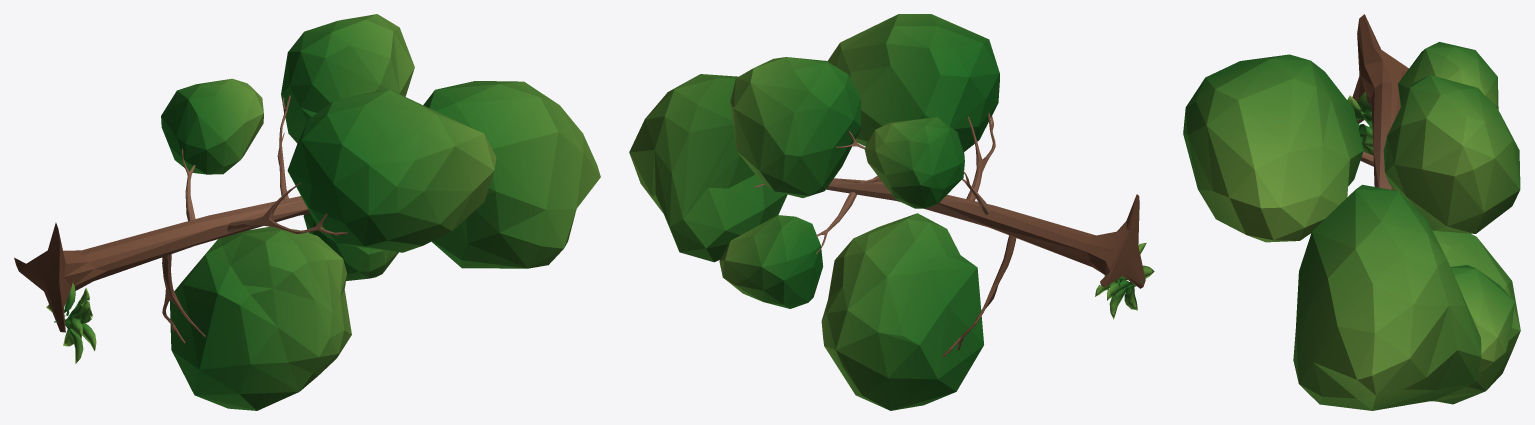
Rendered from Tree2Broke.fbx.
The picture shows the model from 3 angles, left to right: view 1: azimuth 30°, elevation 25°; view 2: azimuth 150°, elevation 25°; view 3: azimuth 270°, elevation 25°; orthographic projection. The views are drawn at different scales.
Parts seen in each view (by area): view 1: Tree2_fracturepart48_2, Tree2_fracturepart36, Tree2_fracturepart44, Tree2_fracturepart50_2, Tree2_fracturepart33, Tree2_fracturepart32_2, Tree2_fracturepart25_3, Tree2_fracturepart29, Tree2_fracturepart26, Tree2_fracturepart17_2, Tree2_fracturepart15, Tree2_fracturepart5_3 (+22 smaller); view 2: Tree2_fracturepart32_2, Tree2_fracturepart39, Tree2_fracturepart34, Tree2_fracturepart3, Tree2_fracturepart44, Tree2_fracturepart21, Tree2_fracturepart5_3, Tree2_fracturepart25_3, Tree2_fracturepart1_2, Tree2_fracturepart20_5, Tree2_fracturepart12_2, Tree2_fracturepart42 (+19 smaller); view 3: Tree2_fracturepart22, Tree2_fracturepart42, Tree2_fracturepart49, Tree2_fracturepart15, Tree2_fracturepart46, Tree2_fracturepart18, Tree2_fracturepart48_2, Tree2_fracturepart32_2, Tree2_fracturepart29, Tree2_fracturepart44, Tree2_fracturepart13, Tree2_fracturepart24 (+18 smaller).
Boxes of the visible parts, box(x1,y1,x2,y2) form: Tree2_fracturepart48_2: box(323, 106, 459, 215); Tree2_fracturepart36: box(228, 253, 303, 376); Tree2_fracturepart44: box(14, 222, 178, 332); Tree2_fracturepart50_2: box(333, 138, 469, 244); Tree2_fracturepart33: box(489, 181, 571, 268); Tree2_fracturepart32_2: box(287, 89, 434, 229); Tree2_fracturepart25_3: box(161, 82, 237, 165); Tree2_fracturepart29: box(491, 120, 589, 182); Tree2_fracturepart26: box(298, 269, 347, 372); Tree2_fracturepart17_2: box(181, 282, 240, 376); Tree2_fracturepart15: box(474, 81, 565, 132); Tree2_fracturepart5_3: box(184, 230, 277, 288); Tree2_fracturepart32_2: box(875, 18, 993, 145); Tree2_fracturepart39: box(834, 285, 925, 401); Tree2_fracturepart34: box(749, 62, 850, 145); Tree2_fracturepart3: box(659, 146, 726, 261); Tree2_fracturepart44: box(1010, 194, 1145, 288); Tree2_fracturepart21: box(733, 215, 811, 307); Tree2_fracturepart5_3: box(891, 221, 969, 306); Tree2_fracturepart25_3: box(907, 117, 964, 208); Tree2_fracturepart1_2: box(754, 105, 860, 172); Tree2_fracturepart20_5: box(690, 82, 756, 183); Tree2_fracturepart12_2: box(889, 313, 983, 407); Tree2_fracturepart42: box(629, 90, 697, 166); Tree2_fracturepart22: box(1216, 103, 1347, 235); Tree2_fracturepart42: box(1346, 236, 1456, 392); Tree2_fracturepart49: box(1384, 116, 1511, 208); Tree2_fracturepart15: box(1327, 207, 1428, 294); Tree2_fracturepart46: box(1301, 288, 1377, 410); Tree2_fracturepart18: box(1370, 298, 1463, 410); Tree2_fracturepart48_2: box(1184, 58, 1264, 132); Tree2_fracturepart32_2: box(1250, 54, 1353, 110); Tree2_fracturepart29: box(1301, 227, 1360, 345); Tree2_fracturepart44: box(1352, 14, 1408, 131); Tree2_fracturepart13: box(1395, 75, 1509, 165); Tree2_fracturepart24: box(1308, 100, 1363, 189).
Size of the model in its own units: 1163 by 708 by 591.
1 material, 1 textured.
